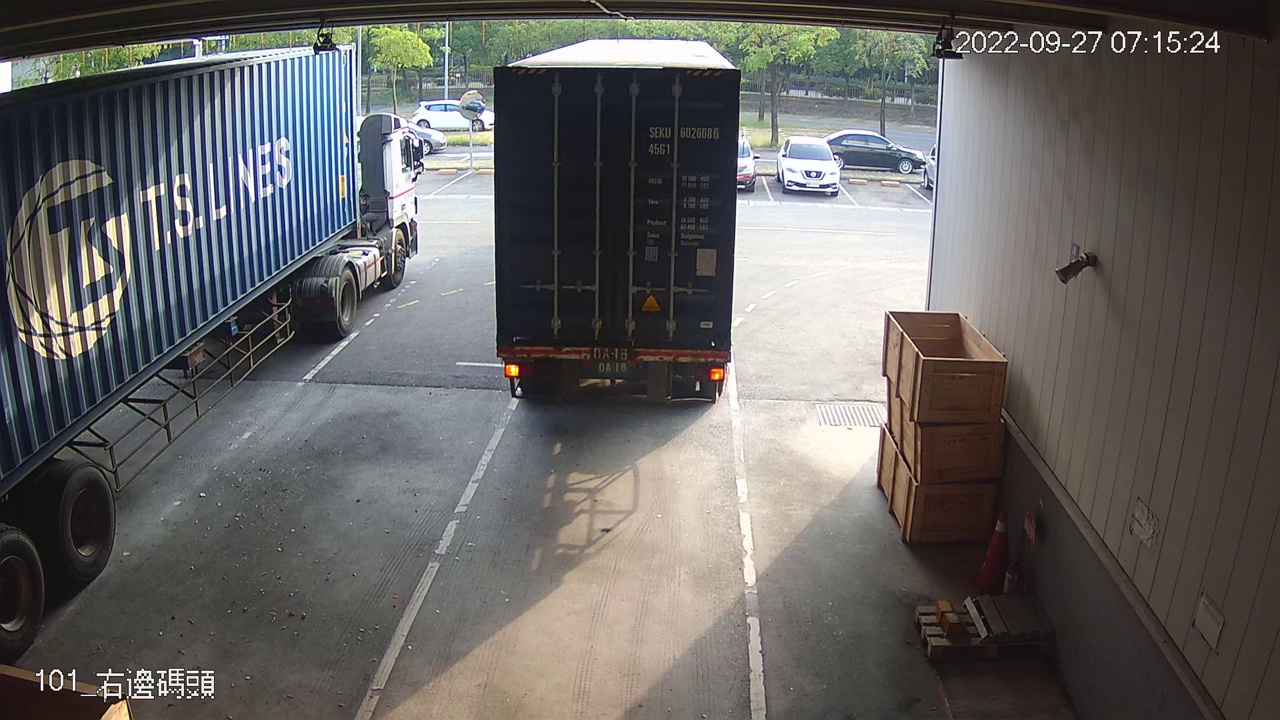container: (643, 120, 724, 162)
